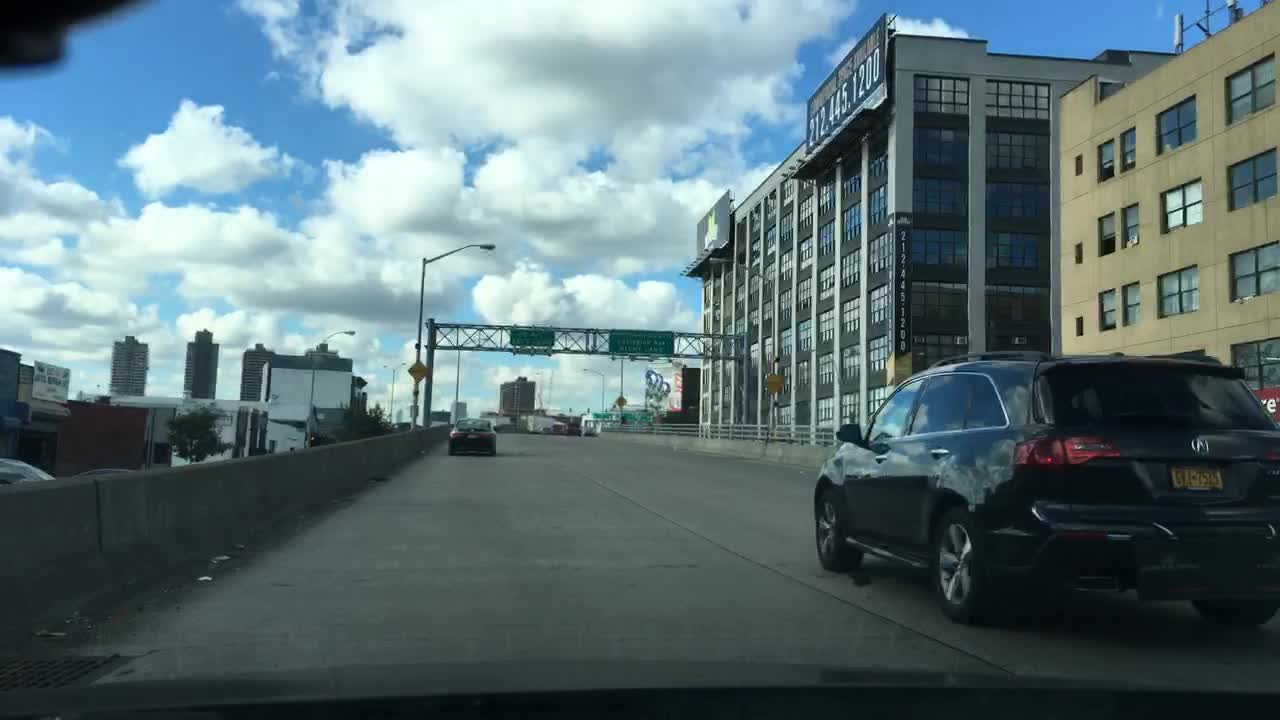car: (810, 344, 1279, 621), (445, 416, 499, 455), (0, 455, 57, 483), (75, 464, 140, 475), (565, 423, 582, 436), (549, 423, 564, 435), (539, 425, 550, 435)
traffic sign: (608, 329, 674, 358), (511, 324, 556, 348), (407, 360, 430, 381), (765, 374, 783, 395), (615, 393, 628, 409)
